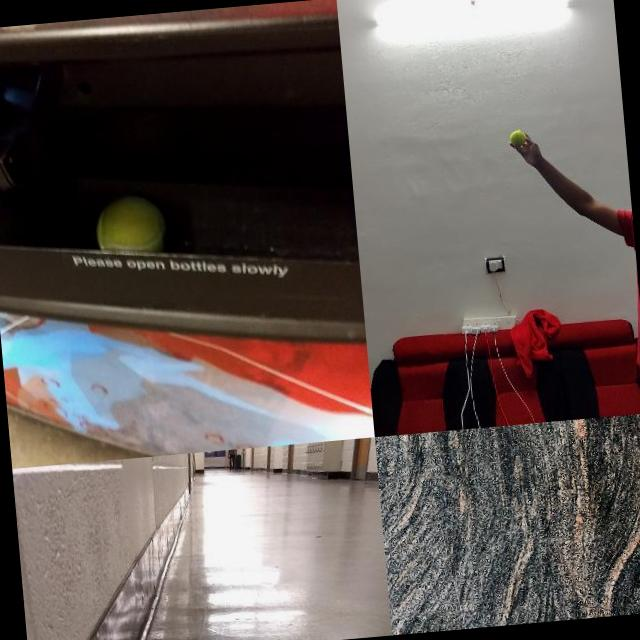Tennis Ball: (92, 192, 168, 249), (508, 128, 526, 146)
